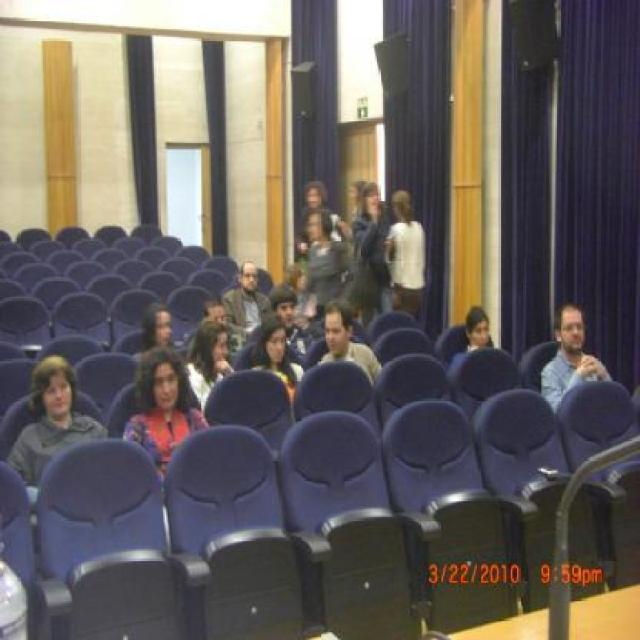Person: (8, 357, 108, 521), (122, 342, 215, 508), (542, 296, 615, 413), (299, 205, 363, 317), (248, 310, 308, 424), (314, 296, 384, 389), (382, 183, 428, 320), (348, 178, 398, 302), (189, 316, 236, 416), (218, 257, 274, 331), (182, 296, 242, 359), (448, 298, 494, 370), (270, 281, 308, 357), (298, 182, 337, 248), (134, 298, 178, 354), (347, 174, 368, 214)
